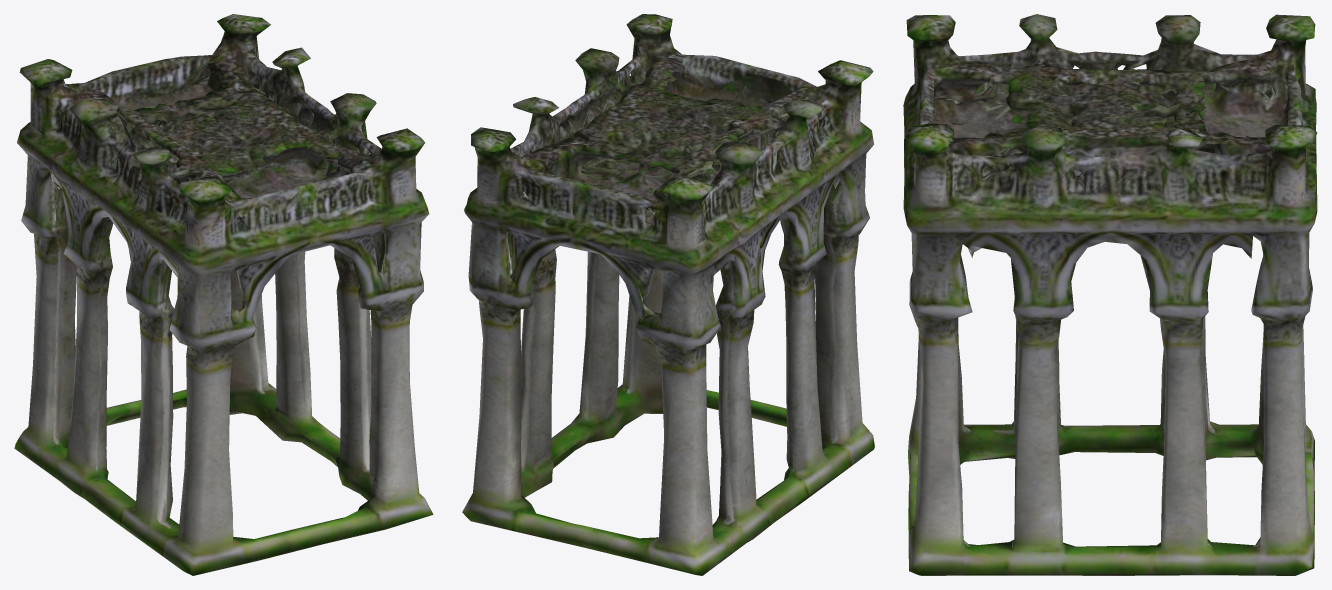
The model's file is 08d312c6ec67_renaissance_garden_.fbx.
3 renders of one model, left to right at view 1: azimuth 30°, elevation 25°; view 2: azimuth 150°, elevation 25°; view 3: azimuth 270°, elevation 25°, orthographic. The views are drawn at different scales.
Visible parts, largest first — view 1: mesh; view 2: mesh; view 3: mesh.
Part boxes in pixels (bbox=[...]): mesh: bbox=[14, 14, 433, 575]; mesh: bbox=[462, 14, 874, 575]; mesh: bbox=[903, 14, 1317, 575].
Bounding box in the file's own units: 65.76 × 100 × 84.56.
